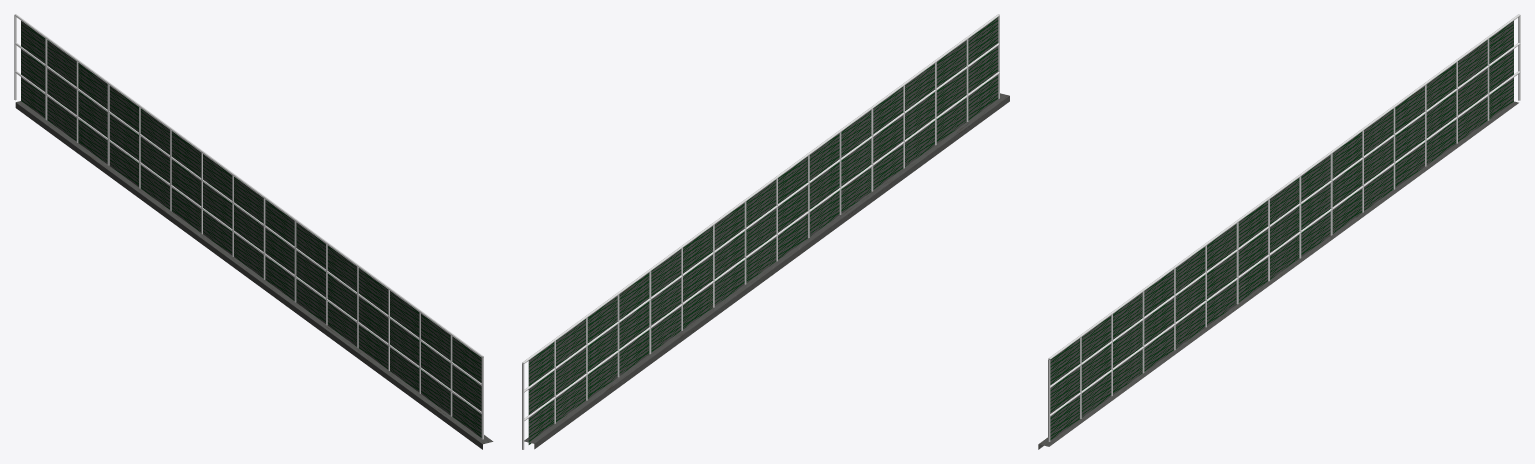
File: Lapangan_WireFence.fbx
3 views of the same model, side by side, from view 1: azimuth 30°, elevation 25°; view 2: azimuth 150°, elevation 25°; view 3: azimuth 330°, elevation 25° (orthographic).
Visible parts, largest first — view 1: WireFence, WireFenceBarH.002, WireFenceBarH, WireFenceBarH.001; view 2: WireFence, WireFenceBarH.002, WireFenceBarH.001, WireFenceBarH; view 3: WireFence, WireFenceBarH.002, WireFenceBarH.001, WireFenceBarH.
Boxes of the visible parts, bbox=[...] form: WireFence: bbox=[15, 21, 493, 449]; WireFenceBarH.002: bbox=[14, 14, 483, 357]; WireFenceBarH: bbox=[14, 71, 481, 413]; WireFenceBarH.001: bbox=[14, 42, 481, 385]; WireFence: bbox=[524, 17, 1009, 449]; WireFenceBarH.002: bbox=[522, 14, 999, 363]; WireFenceBarH.001: bbox=[524, 43, 999, 392]; WireFenceBarH: bbox=[524, 72, 999, 420]; WireFence: bbox=[1038, 21, 1518, 449]; WireFenceBarH.002: bbox=[1048, 14, 1520, 359]; WireFenceBarH.001: bbox=[1050, 43, 1520, 387]; WireFenceBarH: bbox=[1050, 71, 1520, 416].
Bounding box in the file's own units: 0.8 × 6.27 × 60.77.
